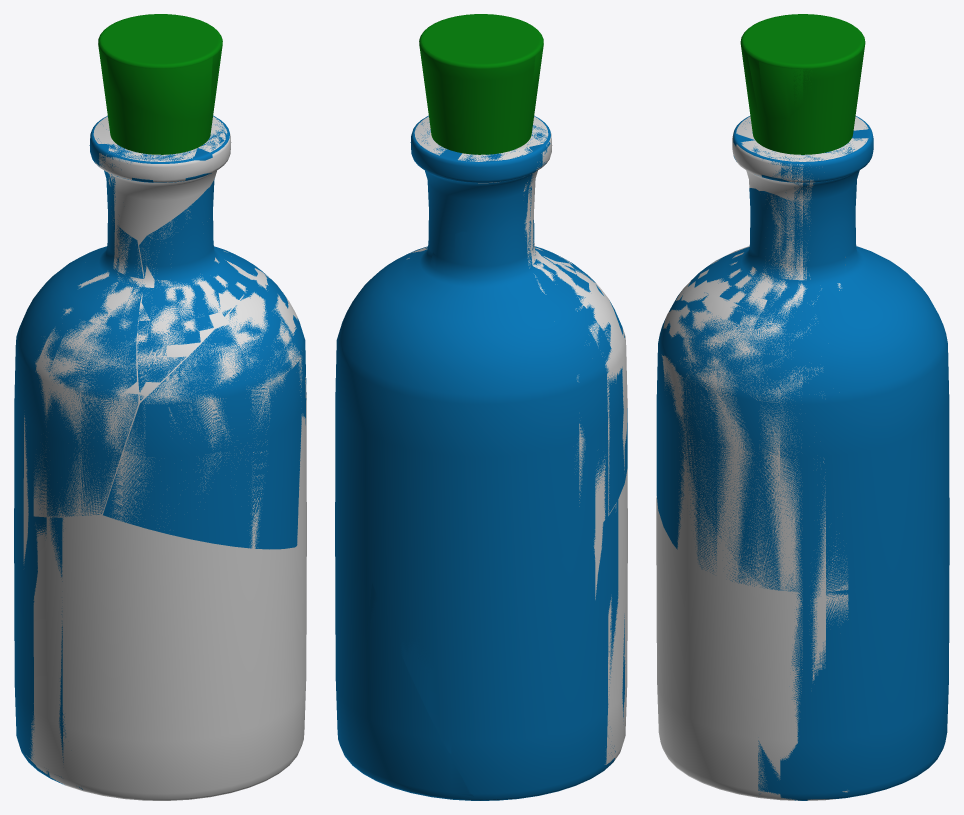
The model's file is Broken bottle.fbx.
The picture shows the model from 3 angles, left to right: view 1: azimuth 30°, elevation 25°; view 2: azimuth 150°, elevation 25°; view 3: azimuth 270°, elevation 25°; orthographic projection.
Visible parts, largest first — view 1: Bttle001_cell.007, Bttle001_cell.003, Bttle001, Bttle001_cell.005, Bttle001_cell.009, Bttle001_cell, Bttle001_cell.006; view 2: Bttle001, Bttle001_cell.006, Bttle001_cell.007, Bttle001_cell.005, Bttle001_cell.004; view 3: Bttle001, Bttle001_cell.007, Bttle001_cell.003, Bttle001_cell.009, Bttle001_cell.004, Bttle001_cell.
Boxes of the visible parts, box(x1,y1,x2,y2) form: Bttle001_cell.007: box(22, 116, 306, 800); Bttle001_cell.003: box(103, 278, 306, 549); Bttle001: box(14, 14, 271, 784); Bttle001_cell.005: box(33, 226, 143, 516); Bttle001_cell.009: box(137, 178, 258, 400); Bttle001_cell: box(106, 46, 222, 119); Bttle001_cell.006: box(14, 512, 82, 789); Bttle001: box(335, 14, 618, 800); Bttle001_cell.006: box(399, 505, 625, 800); Bttle001_cell.007: box(406, 116, 627, 783); Bttle001_cell.005: box(430, 220, 627, 513); Bttle001_cell.004: box(340, 551, 473, 798); Bttle001: box(732, 14, 949, 800); Bttle001_cell.007: box(656, 116, 868, 800); Bttle001_cell.003: box(656, 291, 823, 591); Bttle001_cell.009: box(688, 188, 848, 337); Bttle001_cell.004: box(758, 554, 947, 794); Bttle001_cell: box(740, 44, 812, 119).
Bounding box in the file's own units: 59.27 × 157 × 59.27.
